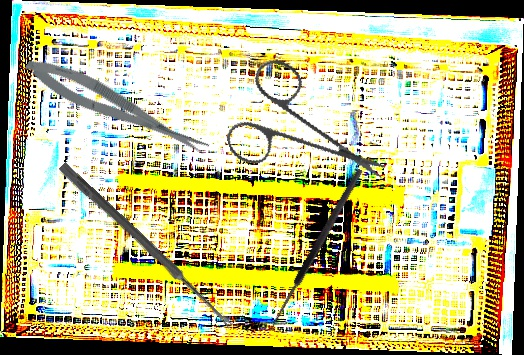Hook Surgical: (266, 167, 372, 337)
Iris Scissors: (207, 36, 389, 221)
Micro Scissor: (20, 48, 213, 168)
Surgical Spoon: (57, 162, 236, 330)
